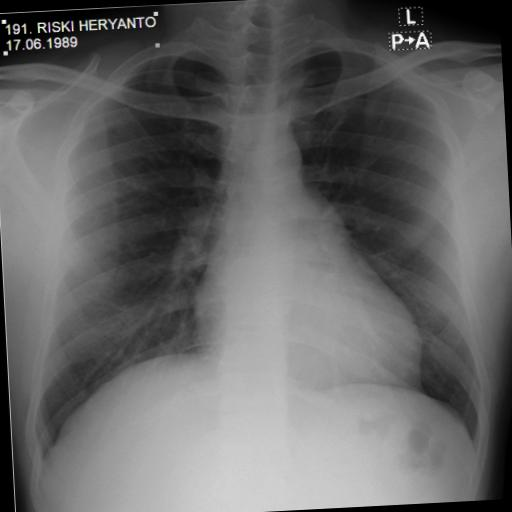kardiomegali: (5, 16, 495, 486)
